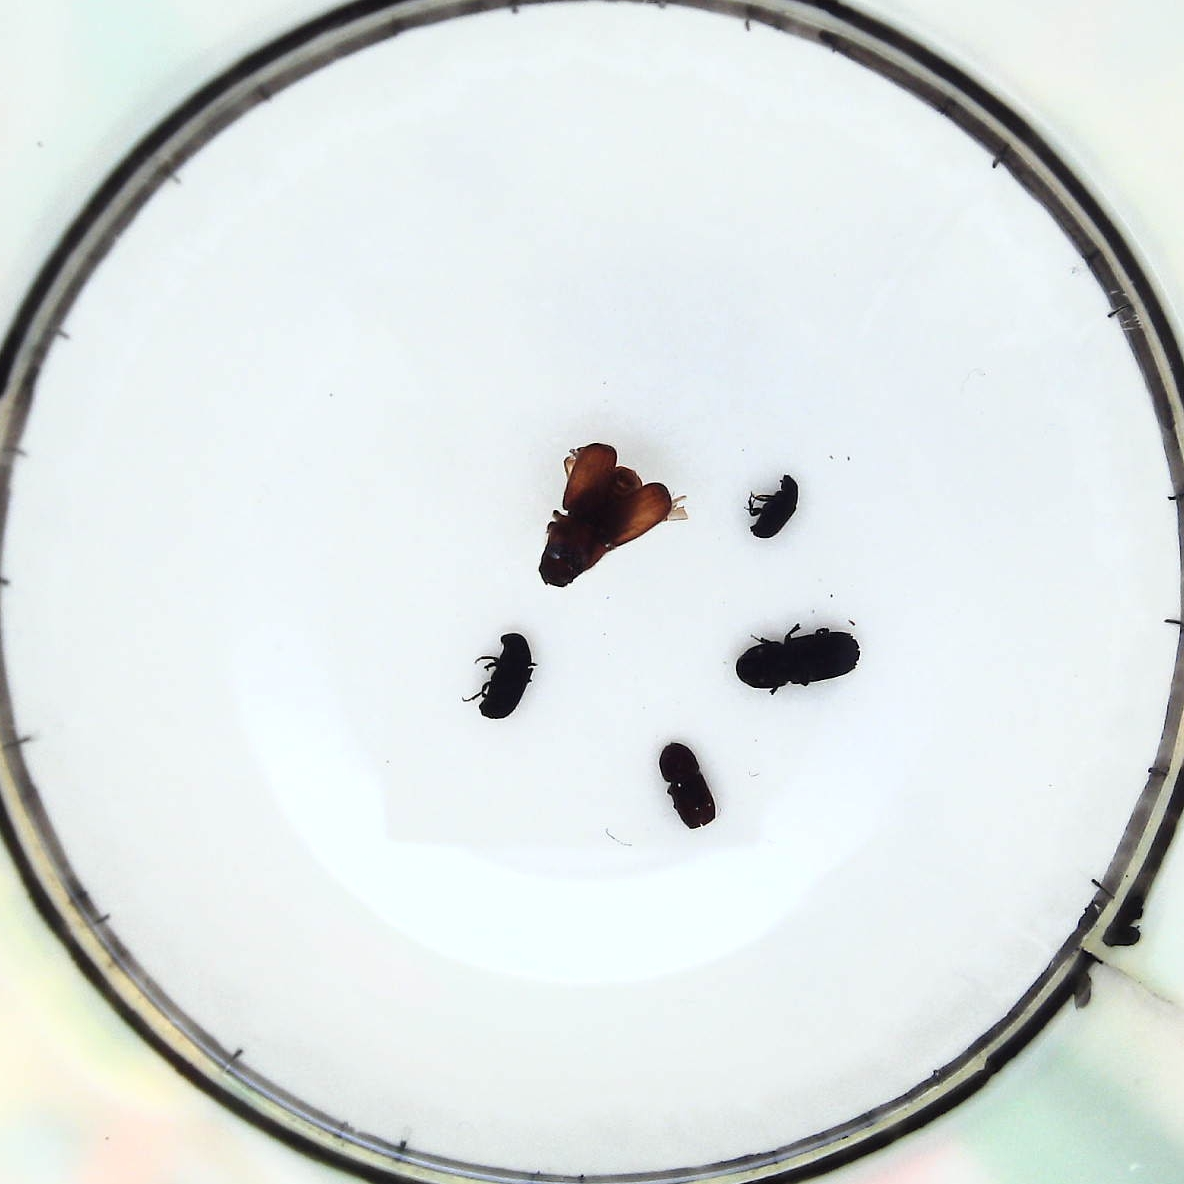Boerner: (741, 625, 860, 698)
Leconte: (541, 439, 680, 595)
Linnaeus: (660, 744, 717, 829)
armandi: (475, 632, 536, 722)
coleoptera: (743, 473, 797, 539)
